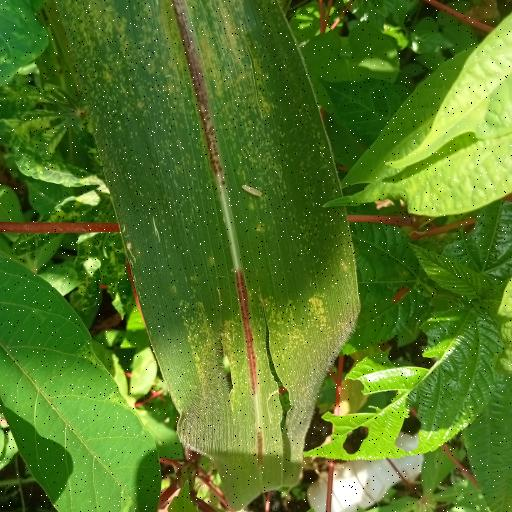Corn_Brown_Spots: (50, 2, 349, 481)
